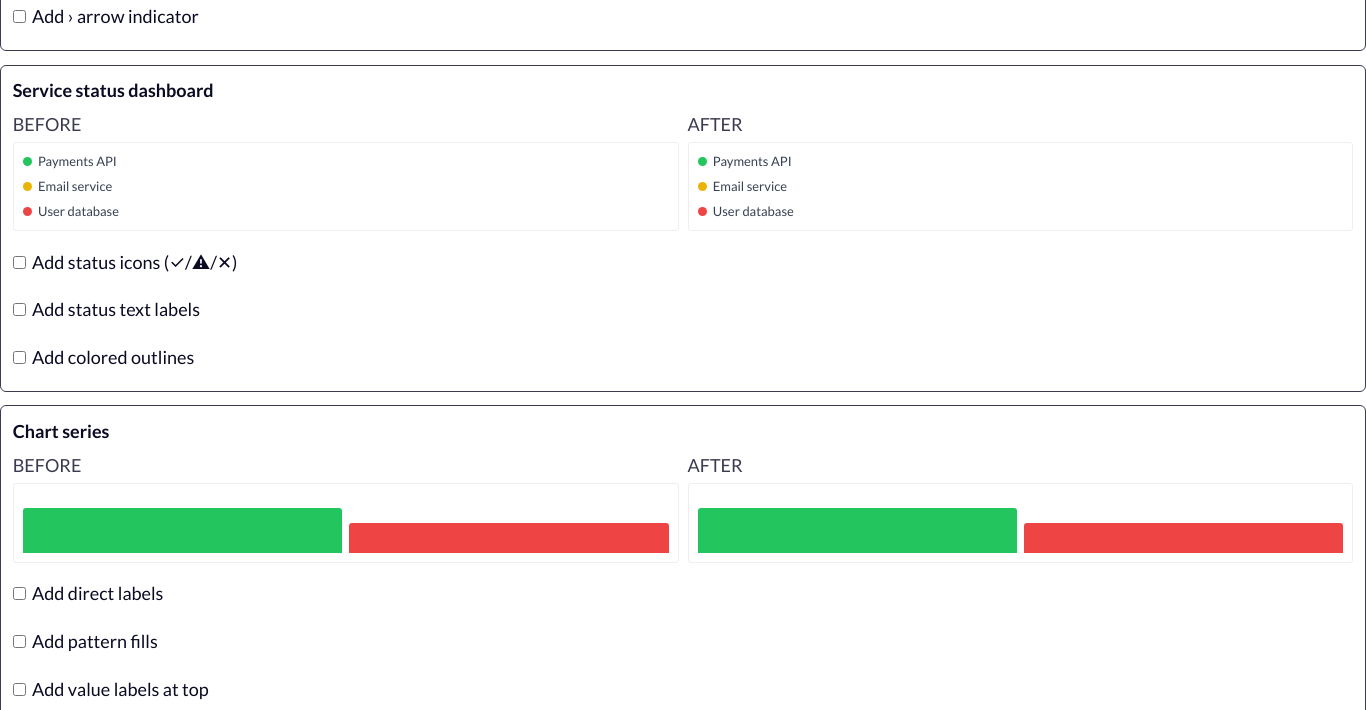
Test case: PatternRepairTool › uses a different pattern for each chart series
(page scrolled)
Click the checkbox labelled "Add pattern fills": (19, 642) [13,635,26,648]
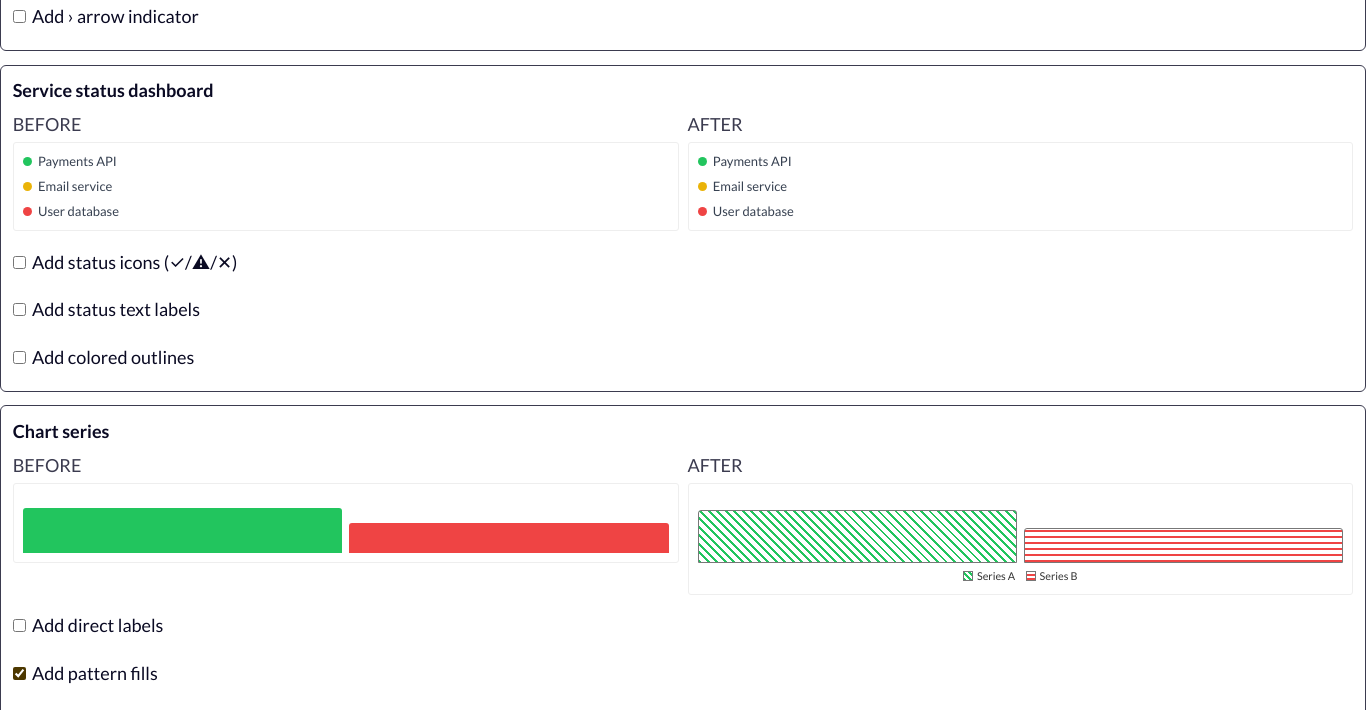
expect the text "Series A" is shown: met, box [963,568,1015,584]
expect the text "Series B" is shown: met, box [1026,568,1078,584]
